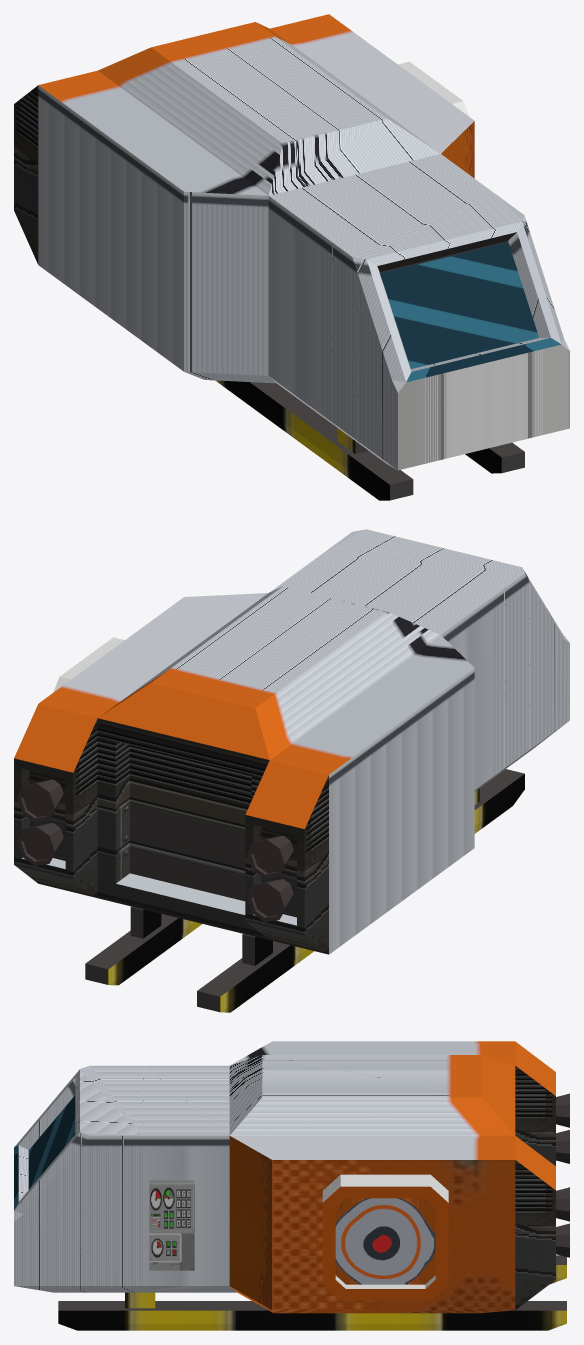
Rendered from Ship.fbx.
3 renders of one model, top to bottom at view 1: azimuth 30°, elevation 25°; view 2: azimuth 150°, elevation 25°; view 3: azimuth 270°, elevation 25°, orthographic. The views are drawn at different scales.
Parts seen in each view (by area): view 1: Ship Body, Sledge 2, Sledge 1, Air Lock; view 2: Ship Body, Sledge 2, Sledge 1, Booster 1, Booster 3, Booster 4, Booster 2, Air Lock; view 3: Ship Body, Air Lock, Sledge 1, Ship Terminal, Booster 1, Booster 3, Booster 4, Booster 2.
Boxes of the visible parts, left/top/right/bottom form: Ship Body: left=14, top=14, right=569, bottom=470; Sledge 2: left=215, top=380, right=413, bottom=500; Sledge 1: left=465, top=442, right=524, bottom=473; Air Lock: left=398, top=61, right=469, bottom=116; Ship Body: left=14, top=529, right=569, bottom=954; Sledge 2: left=197, top=769, right=524, bottom=1012; Sledge 1: left=85, top=906, right=202, bottom=985; Booster 1: left=17, top=779, right=63, bottom=822; Booster 3: left=247, top=835, right=293, bottom=878; Booster 4: left=17, top=823, right=63, bottom=865; Booster 2: left=247, top=879, right=293, bottom=922; Air Lock: left=53, top=637, right=124, bottom=692; Ship Body: left=14, top=1041, right=555, bottom=1313; Air Lock: left=322, top=1174, right=448, bottom=1300; Sledge 1: left=58, top=1292, right=566, bottom=1330; Ship Terminal: left=149, top=1180, right=194, bottom=1270; Booster 1: left=556, top=1187, right=569, bottom=1221; Booster 3: left=556, top=1093, right=569, bottom=1127; Booster 4: left=556, top=1223, right=569, bottom=1257; Booster 2: left=556, top=1130, right=569, bottom=1163.
Bounding box in the file's own units: 3.72 × 3.02 × 6.7.
